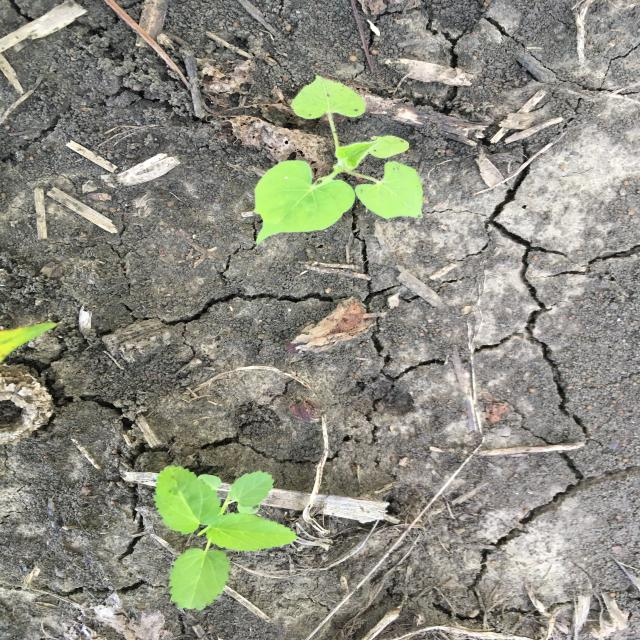MorningGlory: (253, 74, 427, 247)
PricklySida: (151, 464, 301, 611)
